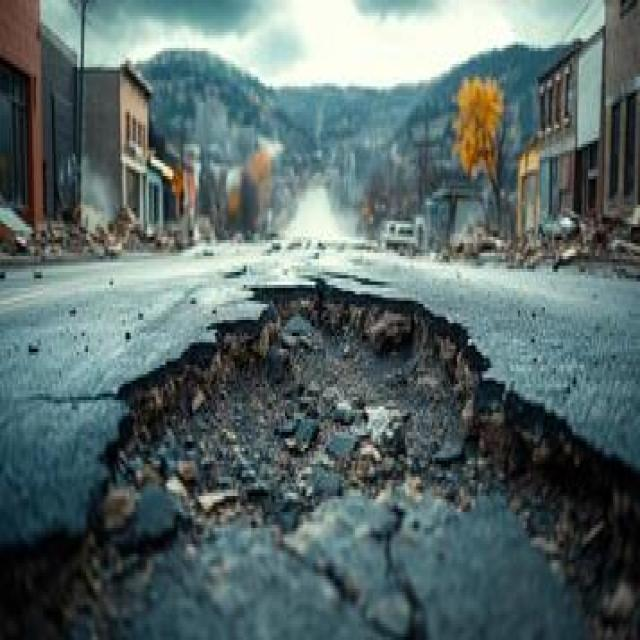road collapse: (21, 169, 638, 640)
